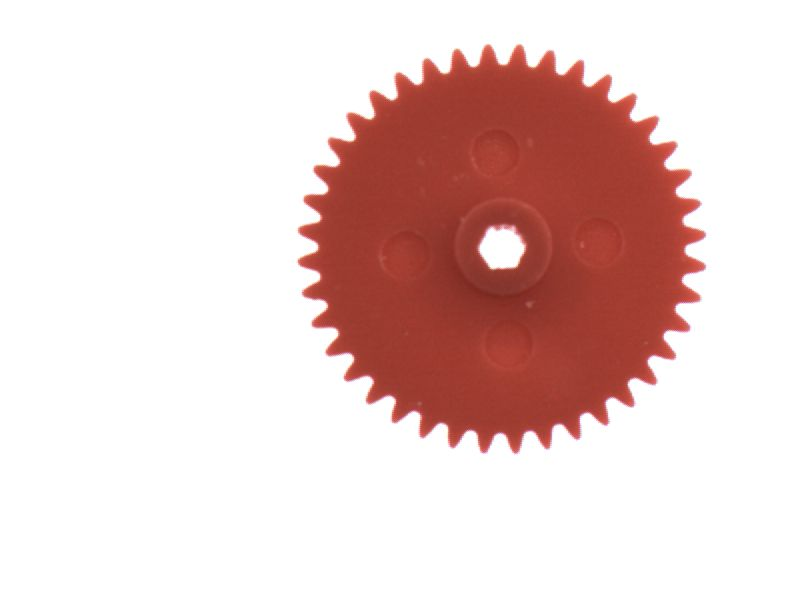good_product: (283, 35, 715, 461)
